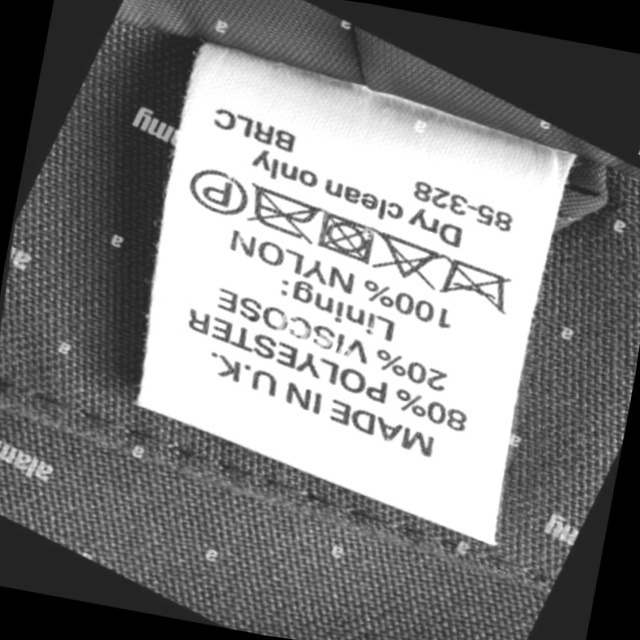DN_bleach: (369, 228, 443, 293)
DN_iron: (242, 180, 323, 249)
DN_tumble_dry: (312, 205, 379, 269)
DN_wash: (430, 250, 519, 320)
dry_clean_any_solvent_except_trichloroethylene: (179, 161, 256, 228)
